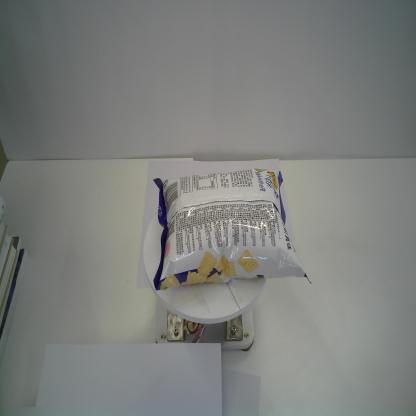Puffed Food: (152, 167, 312, 292)
